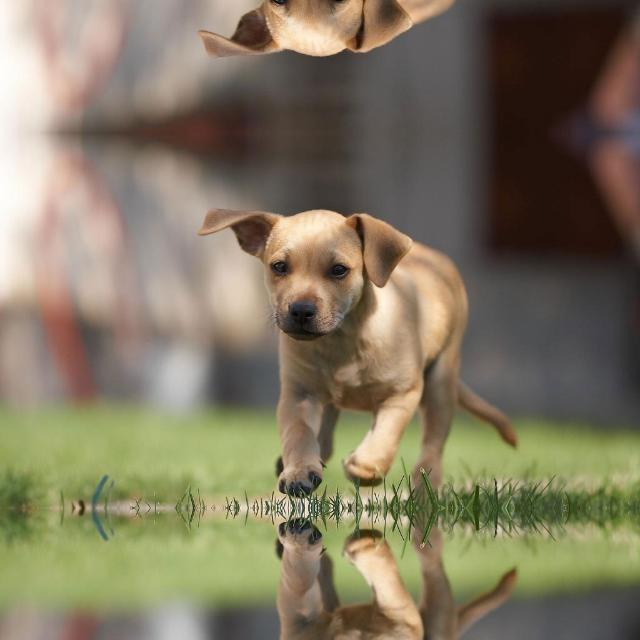dog: (194, 188, 526, 494), (193, 520, 526, 640), (193, 0, 526, 76)
